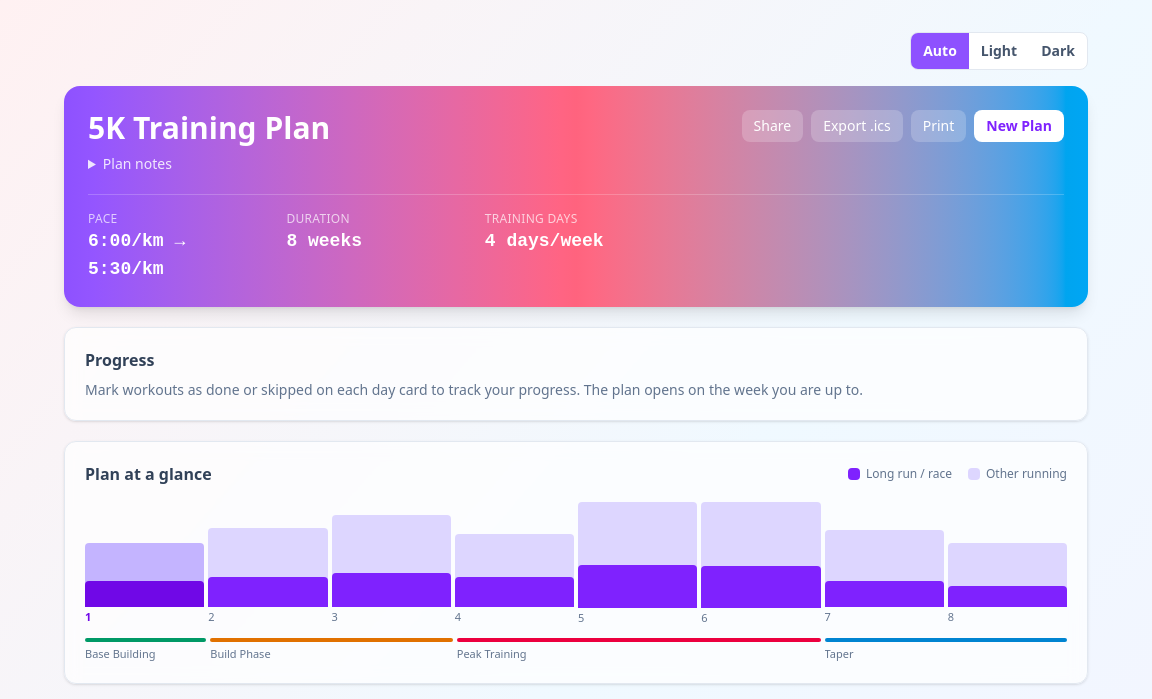
Scenario: App › reuses the saved plan when the same share link is opened twice
Click the button with aria-label "create a new training plan". click: (1019, 126)
box: left=974, top=110, right=1064, bottom=142
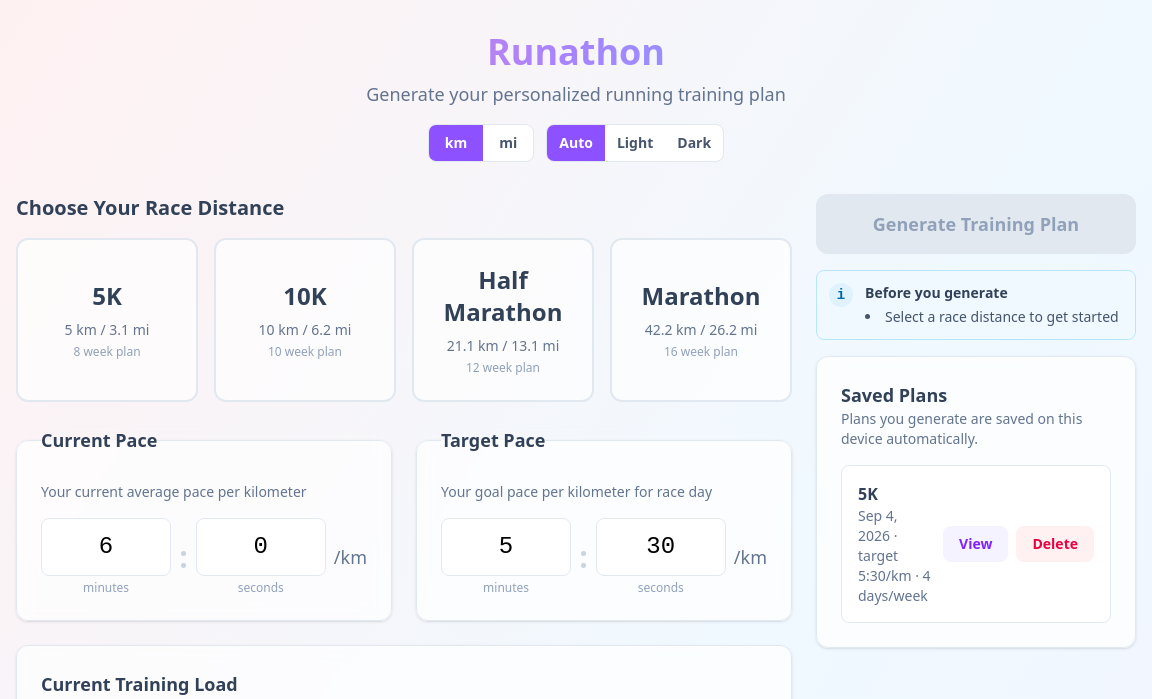
Now the number of buttons named "view 5k plan" is 1, box left=943, top=526, right=1008, bottom=562
